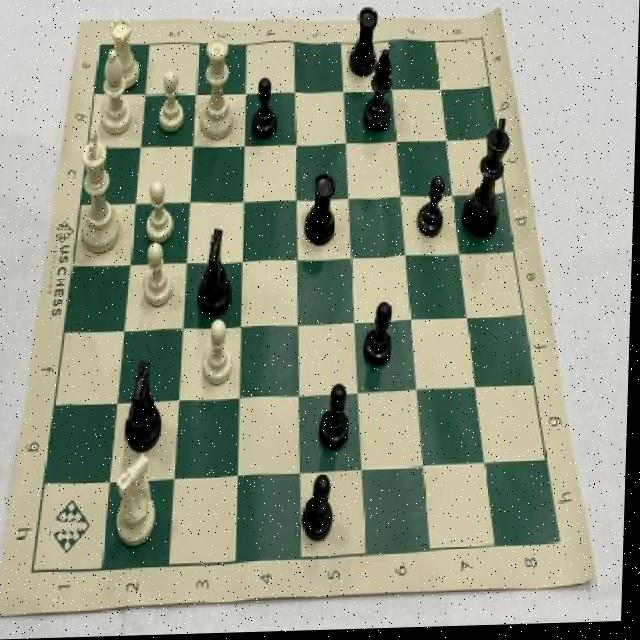bishop: (362, 45, 399, 142)
black-bishop: (460, 114, 519, 247)
black-king: (123, 354, 173, 461), (196, 227, 239, 325)
black-knight: (303, 470, 341, 546), (362, 298, 399, 375), (319, 380, 356, 455), (250, 76, 284, 146), (417, 172, 449, 245)
black-queen: (302, 169, 343, 256), (346, 0, 383, 86)
black-rook: (97, 44, 136, 138)
white-bishop: (73, 128, 130, 258)
white-king: (110, 449, 167, 552)
white-knight: (200, 319, 240, 391), (141, 240, 178, 314), (155, 66, 190, 139), (143, 177, 178, 248)
white-pawn: (197, 30, 244, 148)
white-queen: (105, 15, 145, 95)
